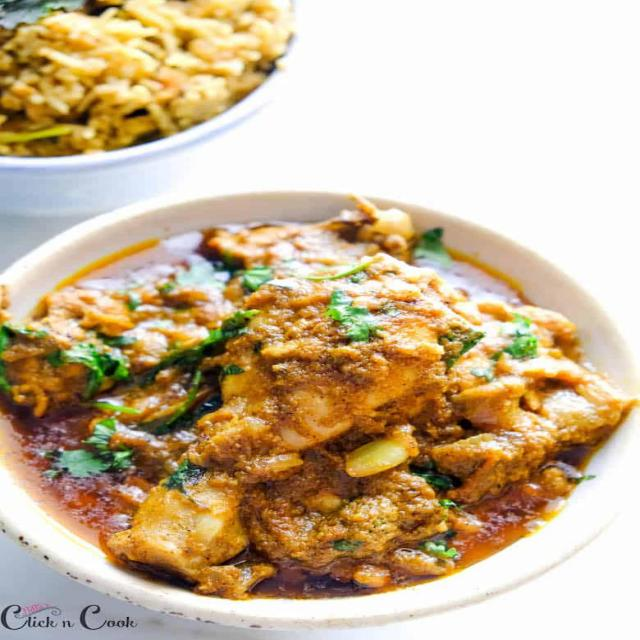chicken: (0, 227, 640, 612)
rice: (13, 0, 287, 145)
